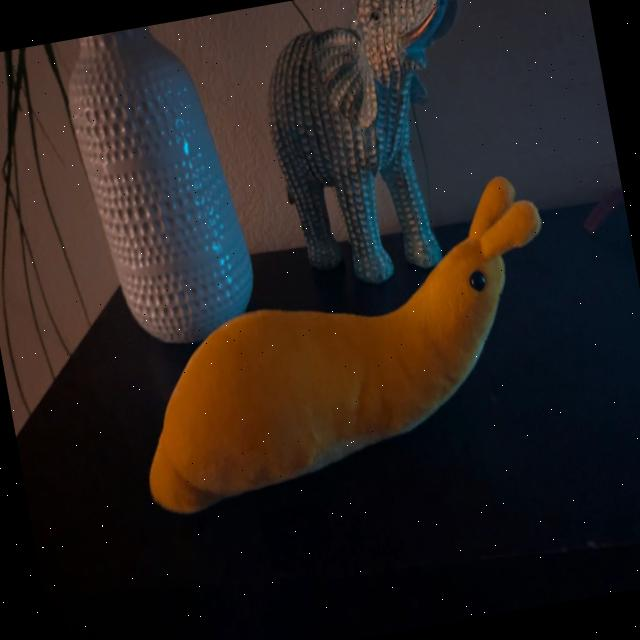banana-slug-toy: (86, 152, 598, 532)
